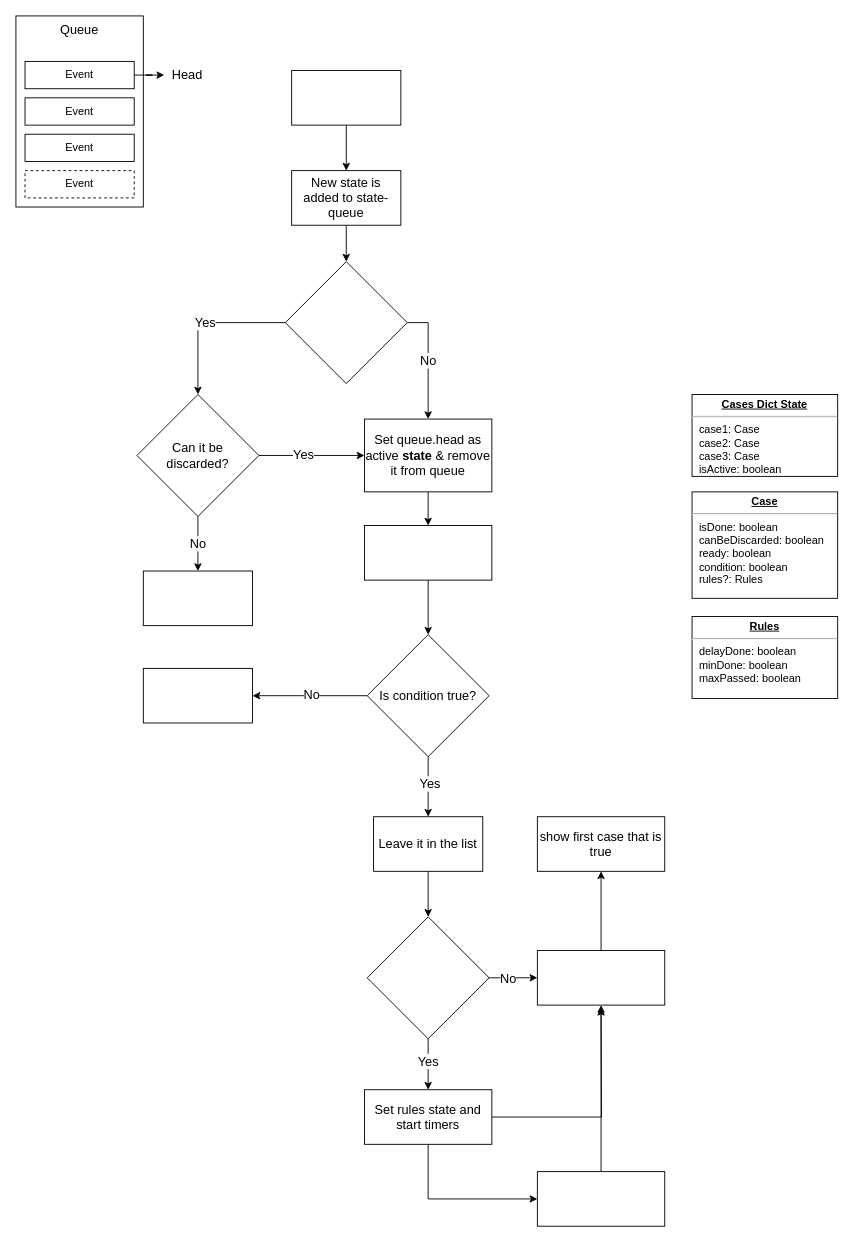
Some shapes in this 854 by 1242 pixel diagram are drawn without their labels. Here are the shapes that lost their labels. From the top down, the centre of each, then its label:
the point at 346,97: State is updated
the point at 345,322: Is there an active case ?
the point at 428,552: Reduce cases
the point at 197,598: Do nothing
the point at 197,695: Do not return the case ("remove" it)
the point at 427,977: Timing rules?
the point at 600,977: update case state
the point at 600,1198: On timeout
